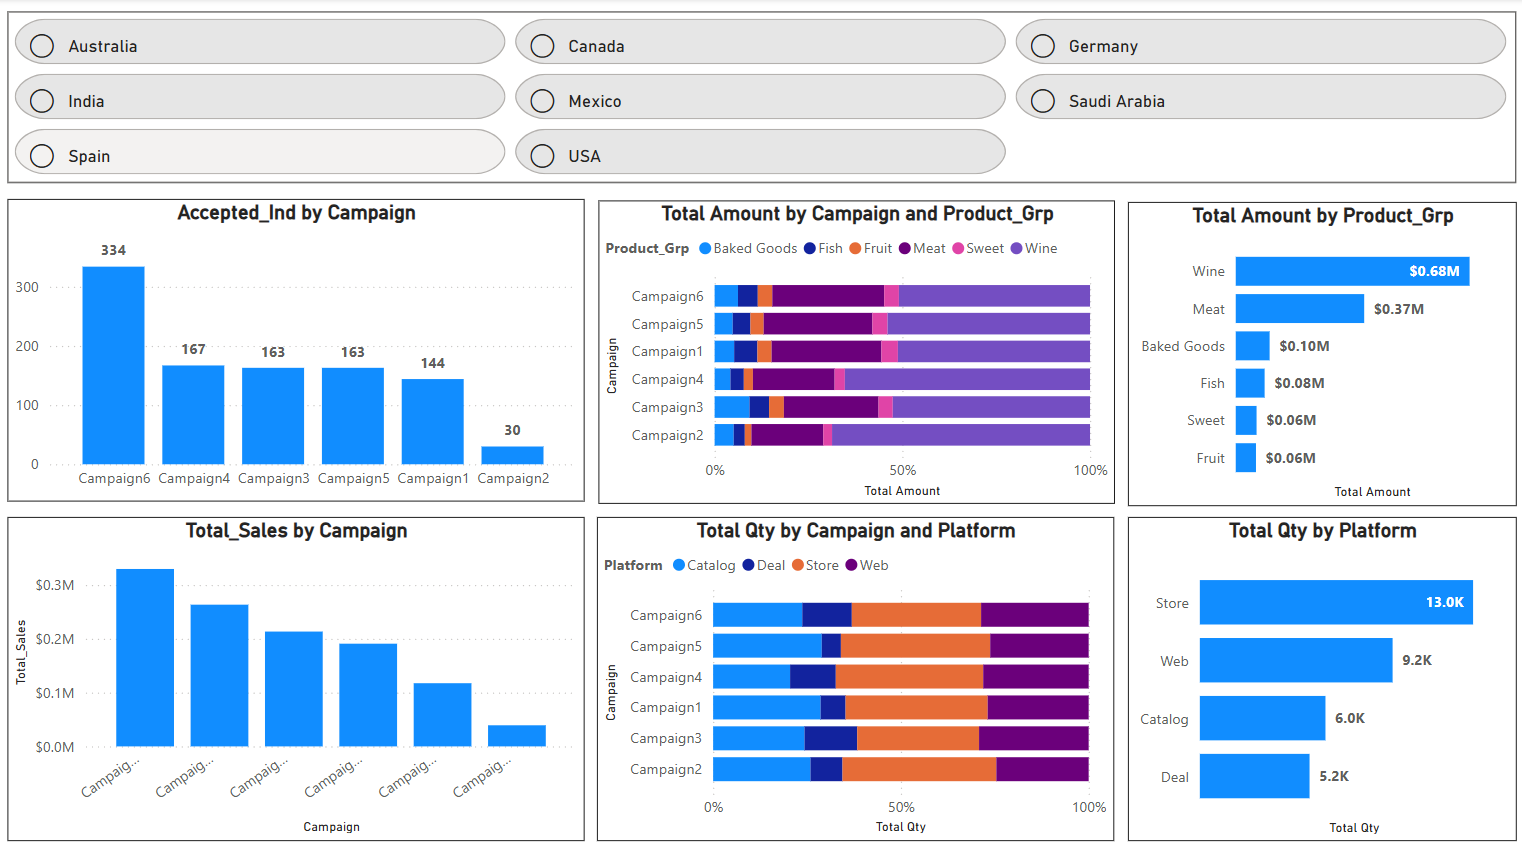

Layout of this report page (visuals, bound fields, positions):
{"tool":"powerbi","page":{"name":"Campaign Performance","canvas":[1280,720],"ordinal":0},"visuals":[{"type":"clusteredColumnChart","title":"Accepted_Ind by Campaign","fields":{"Y":["Sum(Campaign.Accepted_Ind)"],"Category":["Campaign.Campaign"]},"box":[9,167.5,481.9,252.6],"z":0},{"type":"clusteredColumnChart","fields":{"Y":["Sum(Products.Amount)"],"Category":["Campaign.Campaign"]},"box":[9,433,481.9,270.6],"z":1000},{"type":"hundredPercentStackedBarChart","fields":{"Y":["Sum(Products.Amount)"],"Category":["Campaign.Campaign"],"Series":["Products.Product_Grp"]},"box":[502.5,168.5,431.6,253.6],"z":2000},{"type":"hundredPercentStackedBarChart","fields":{"Category":["Campaign.Campaign"],"Series":["Platform.Platform"],"Y":["Sum(Platform.Qty)"]},"box":[501.3,433,431.7,270.6],"z":3000},{"type":"barChart","fields":{"Y":["Sum(Products.Amount)"],"Category":["Products.Product_Grp"]},"box":[944.5,170.1,324.7,253.9],"z":4000},{"type":"barChart","fields":{"Y":["Sum(Platform.Qty)"],"Category":["Platform.Platform"]},"box":[945,433.1,324.5,270.9],"z":5000},{"type":"advancedSlicerVisual","fields":{"Values":["marketmindz_research_data.Country"]},"box":[9,11.6,1260.2,143],"z":6000}]}

Visuals, with their boxes in screenshot pixels (x1, y1, x2, y2), scaled from the page's 1280x720 canvas onto the 1522x843 screenshot:
"Accepted_Ind by Campaign" clusteredColumnChart: bbox=[11, 196, 584, 492]
clusteredColumnChart - Sum(Products.Amount) x Campaign.Campaign: bbox=[11, 507, 584, 824]
hundredPercentStackedBarChart - Sum(Products.Amount) x Campaign.Campaign: bbox=[598, 197, 1111, 494]
hundredPercentStackedBarChart - Campaign.Campaign x Platform.Platform: bbox=[596, 507, 1109, 824]
barChart - Sum(Products.Amount) x Products.Product_Grp: bbox=[1123, 199, 1509, 496]
barChart - Sum(Platform.Qty) x Platform.Platform: bbox=[1124, 507, 1510, 824]
advancedSlicerVisual - marketmindz_research_data.Country: bbox=[11, 14, 1509, 181]
